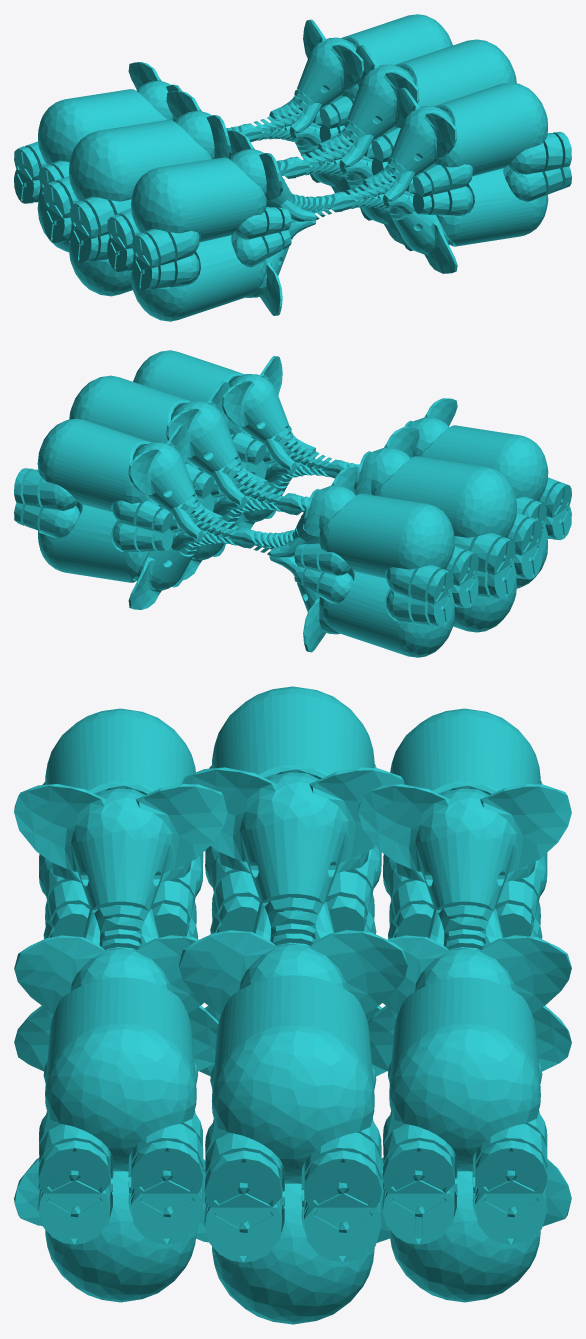
File: 8elephant_remade_low4.gltf
3 views of the same model, one above another, from view 1: azimuth 30°, elevation 25°; view 2: azimuth 150°, elevation 25°; view 3: azimuth 270°, elevation 25° (orthographic). The views are drawn at different scales.
Parts seen in each view (by area): view 1: LFS Elephant low2.002, LFS Elephant low2.003, LFS Elephant low2.001, LFS Elephant low2.009, LFS Elephant low2, LFS Elephant low2.008, LFS Elephant low2.004, LFS Elephant low2.005, LFS Elephant low2.011, LFS Elephant low2.010, LFS Elephant low2.006, LFS Elephant low2.007; view 2: LFS Elephant low2.005, LFS Elephant low2.004, LFS Elephant low2.001, LFS Elephant low2.006, LFS Elephant low2, LFS Elephant low2.007, LFS Elephant low2.003, LFS Elephant low2.002, LFS Elephant low2.011, LFS Elephant low2.010, LFS Elephant low2.009, LFS Elephant low2.008; view 3: LFS Elephant low2, LFS Elephant low2.003, LFS Elephant low2.004, LFS Elephant low2.001, LFS Elephant low2.002, LFS Elephant low2.005, LFS Elephant low2.010, LFS Elephant low2.009, LFS Elephant low2.006, LFS Elephant low2.008, LFS Elephant low2.007, LFS Elephant low2.011.
Boxes of the visible parts, bbox=[...] form: LFS Elephant low2.002: bbox=[107, 130, 343, 268]; LFS Elephant low2.003: bbox=[338, 82, 571, 204]; LFS Elephant low2.001: bbox=[43, 90, 296, 238]; LFS Elephant low2.009: bbox=[341, 166, 571, 273]; LFS Elephant low2: bbox=[291, 39, 516, 170]; LFS Elephant low2.008: bbox=[107, 204, 343, 321]; LFS Elephant low2.004: bbox=[245, 14, 452, 135]; LFS Elephant low2.005: bbox=[14, 62, 250, 188]; LFS Elephant low2.011: bbox=[43, 170, 296, 296]; LFS Elephant low2.010: bbox=[295, 137, 403, 244]; LFS Elephant low2.006: bbox=[249, 105, 351, 194]; LFS Elephant low2.007: bbox=[14, 136, 250, 252]; LFS Elephant low2.005: bbox=[242, 466, 478, 604]; LFS Elephant low2.004: bbox=[14, 418, 248, 540]; LFS Elephant low2.001: bbox=[288, 427, 542, 575]; LFS Elephant low2.006: bbox=[14, 502, 244, 609]; LFS Elephant low2: bbox=[69, 375, 295, 506]; LFS Elephant low2.007: bbox=[242, 541, 478, 657]; LFS Elephant low2.003: bbox=[133, 350, 342, 471]; LFS Elephant low2.002: bbox=[336, 398, 571, 525]; LFS Elephant low2.011: bbox=[288, 507, 542, 632]; LFS Elephant low2.010: bbox=[182, 476, 291, 580]; LFS Elephant low2.009: bbox=[234, 446, 336, 530]; LFS Elephant low2.008: bbox=[336, 472, 571, 588]; LFS Elephant low2: bbox=[178, 930, 407, 1207]; LFS Elephant low2.003: bbox=[14, 935, 203, 1193]; LFS Elephant low2.004: bbox=[382, 935, 571, 1193]; LFS Elephant low2.001: bbox=[182, 686, 404, 946]; LFS Elephant low2.002: bbox=[14, 708, 227, 950]; LFS Elephant low2.005: bbox=[358, 708, 571, 950]; LFS Elephant low2.010: bbox=[196, 1118, 389, 1324]; LFS Elephant low2.009: bbox=[14, 1110, 205, 1302]; LFS Elephant low2.006: bbox=[381, 1110, 571, 1302]; LFS Elephant low2.008: bbox=[14, 852, 218, 1071]; LFS Elephant low2.007: bbox=[367, 853, 571, 1071]; LFS Elephant low2.011: bbox=[199, 846, 386, 1076].
Bounding box in the file's own units: 179 × 63.47 × 103.
